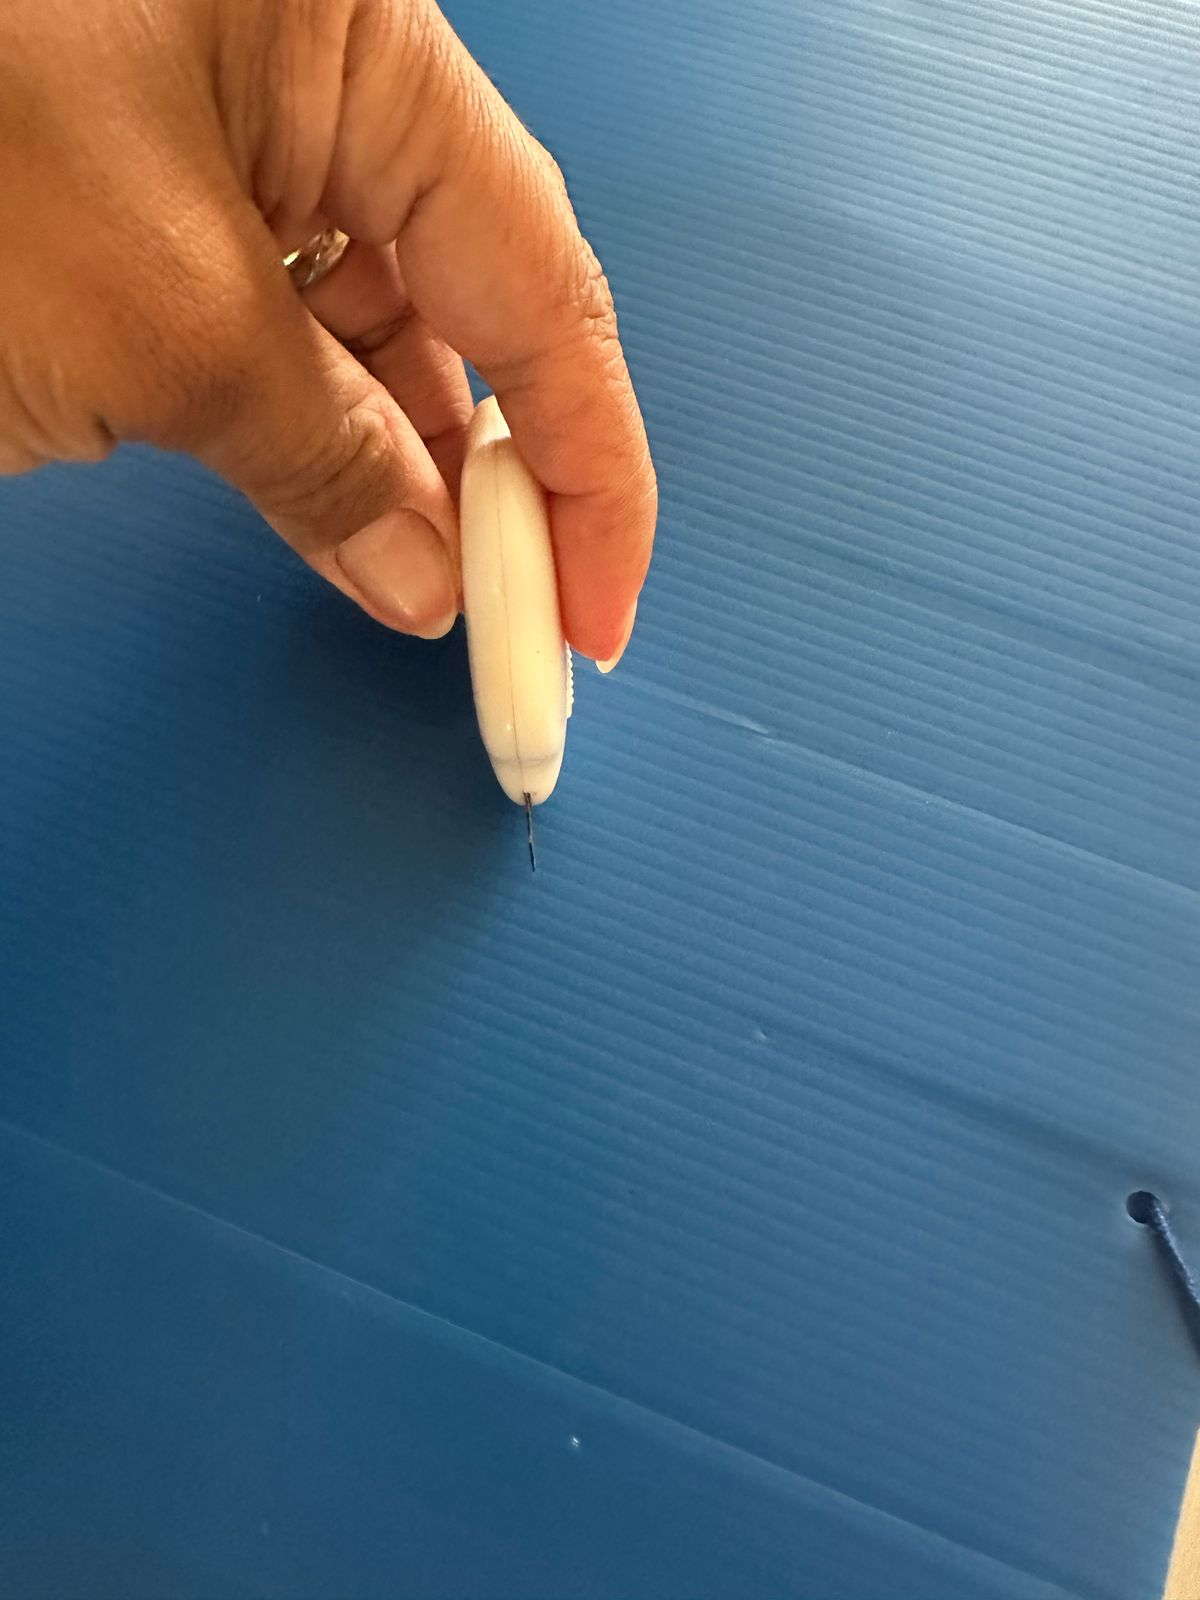estilete: (480, 743, 575, 885)
